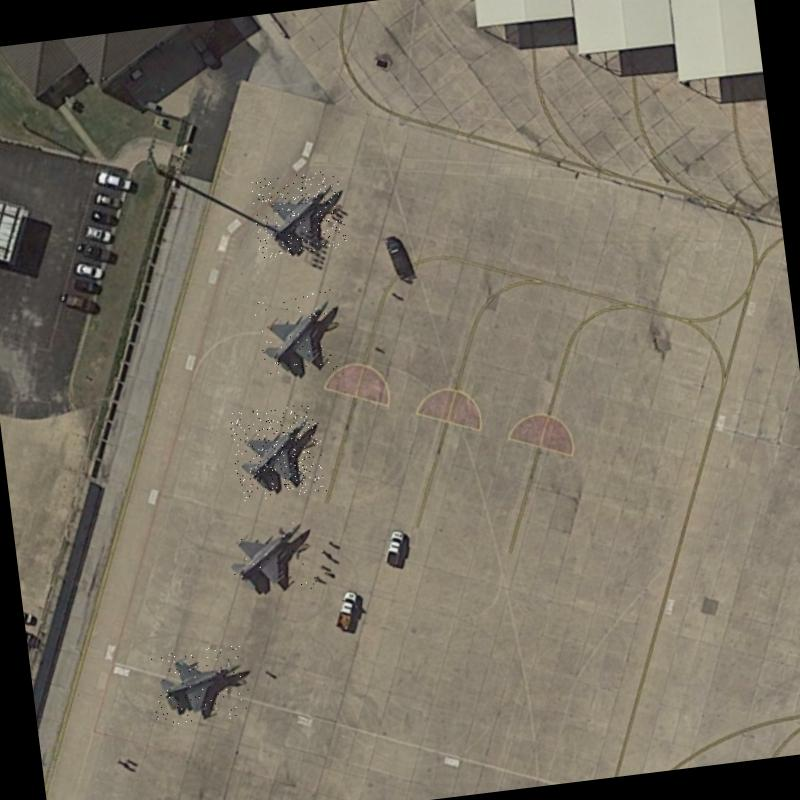A5: (228, 402, 326, 501), (148, 642, 251, 727), (250, 169, 347, 258), (252, 288, 342, 380), (220, 517, 316, 601)
